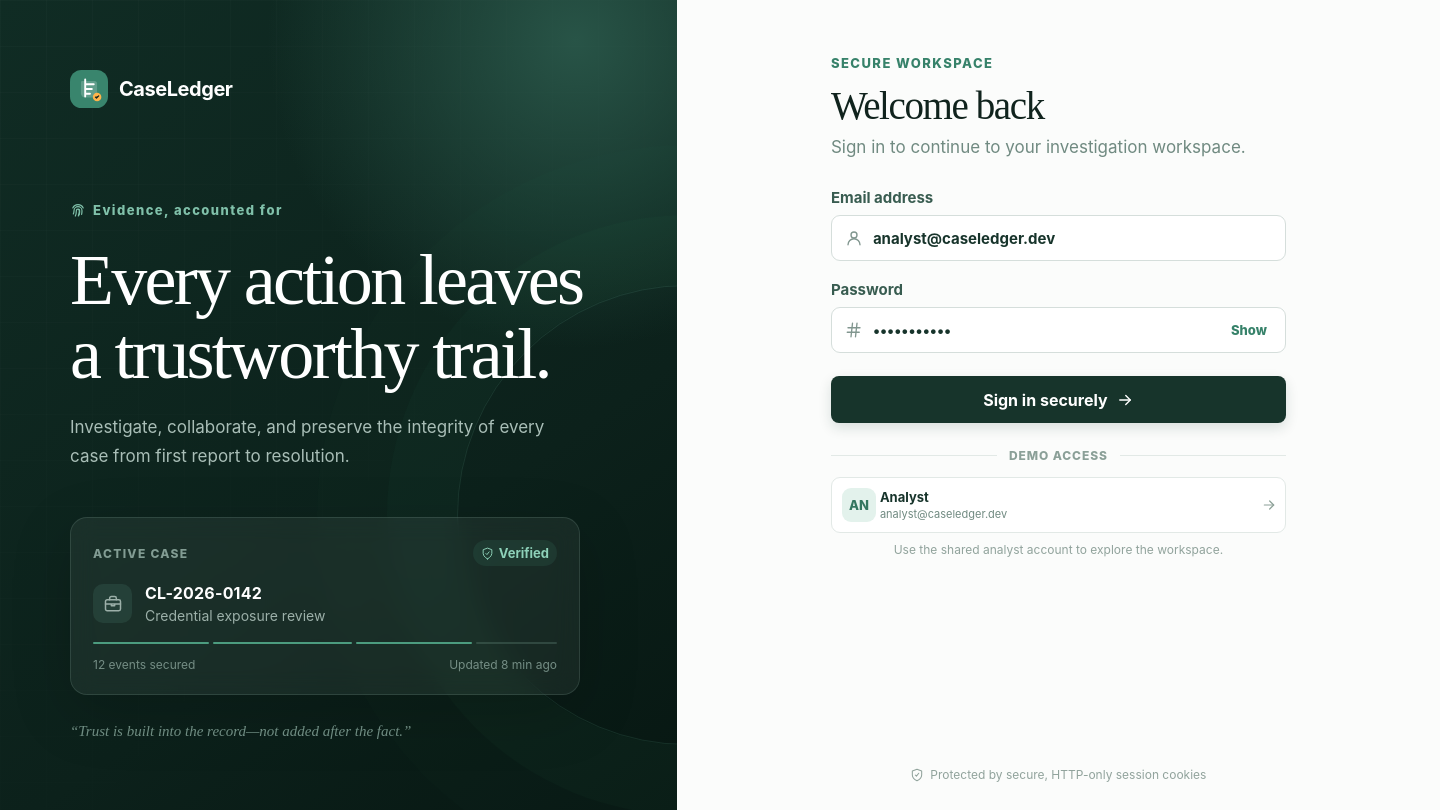
LoginPage › exposes an accessible password visibility control
Click the button with aria-label "Show password" at [1249, 330], box [1226,317,1272,343]
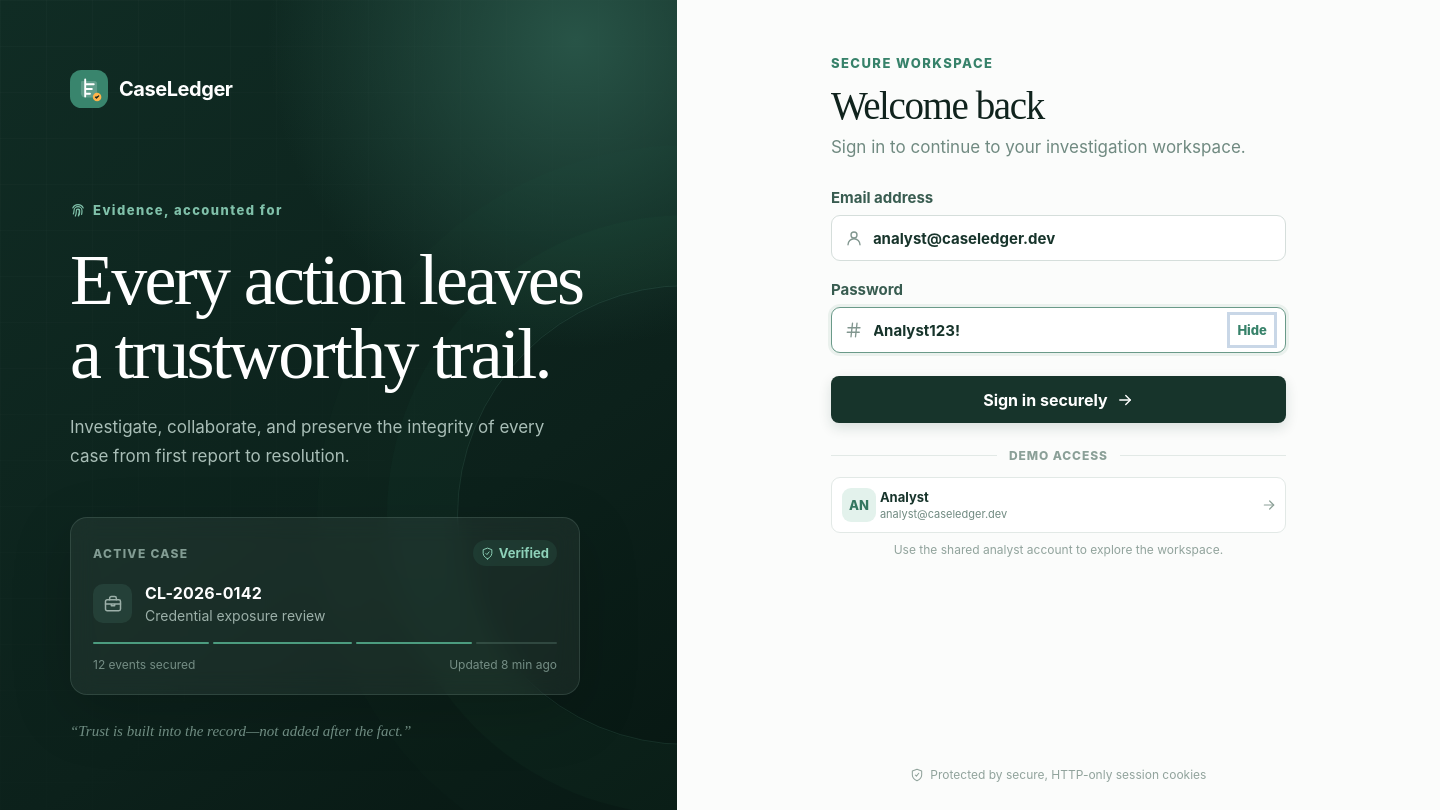
Expected: the field labelled "Password" shows its text, [873,320,1222,340]
Expected: the button with aria-label "Hide password" is shown
Click the button with aria-label "Hide password" at [1252, 330], box [1232,317,1272,343]
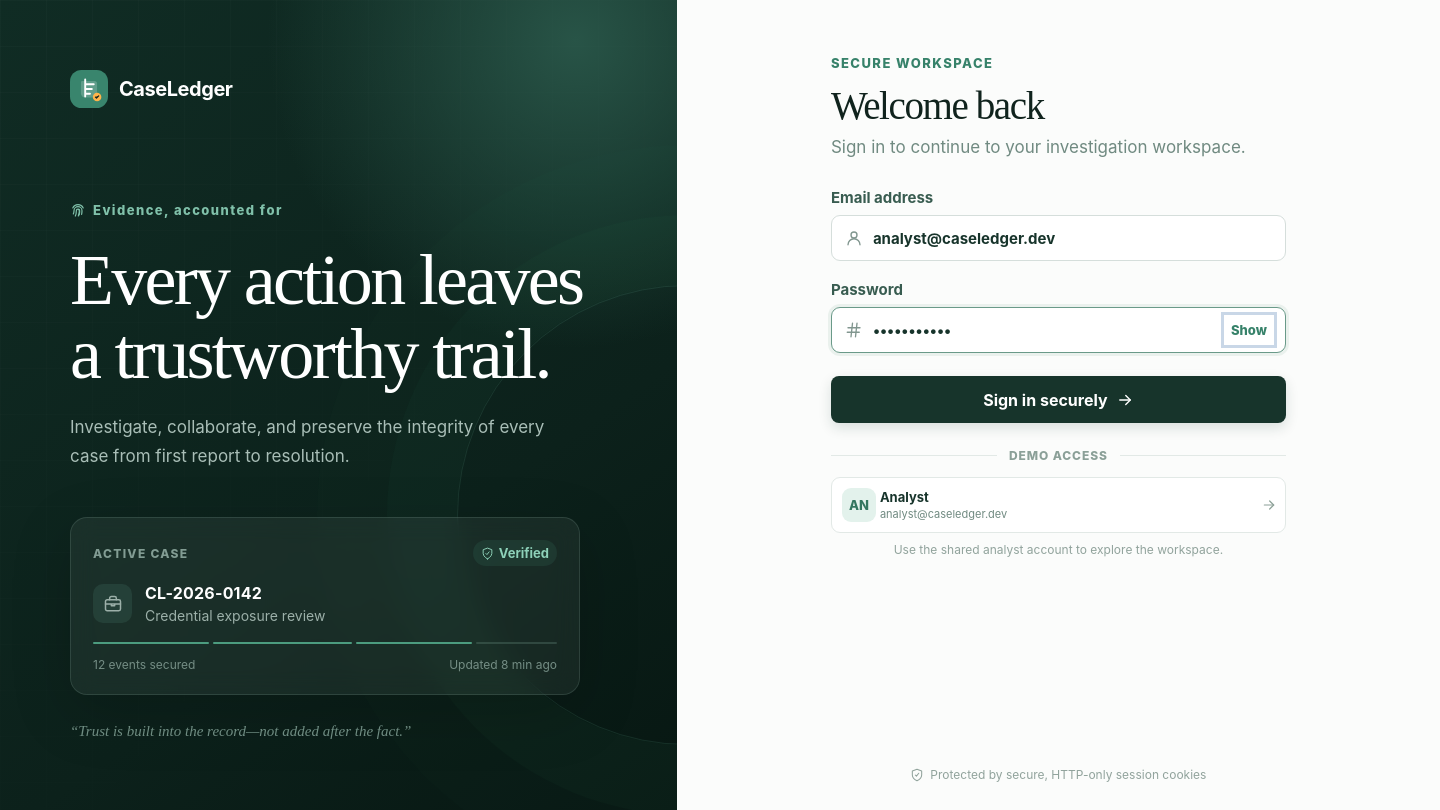
Expected: the password field labelled "Password" hides its text, [873,320,1216,340]
